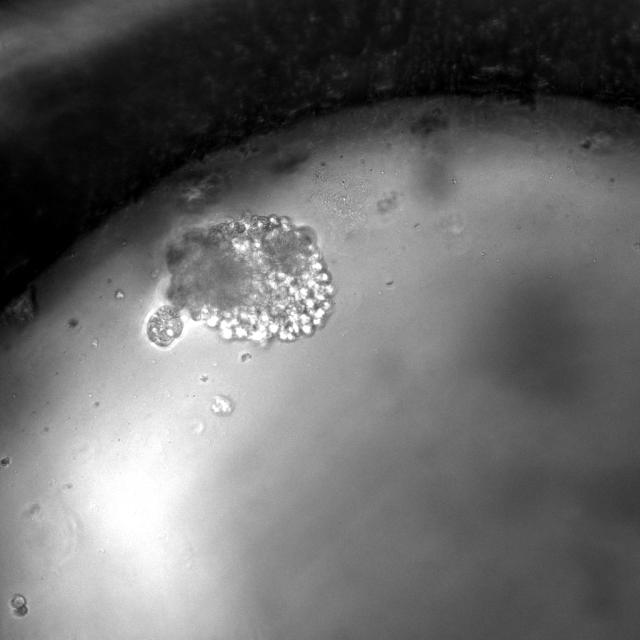organoid: (147, 212, 334, 346), (11, 594, 28, 616)
